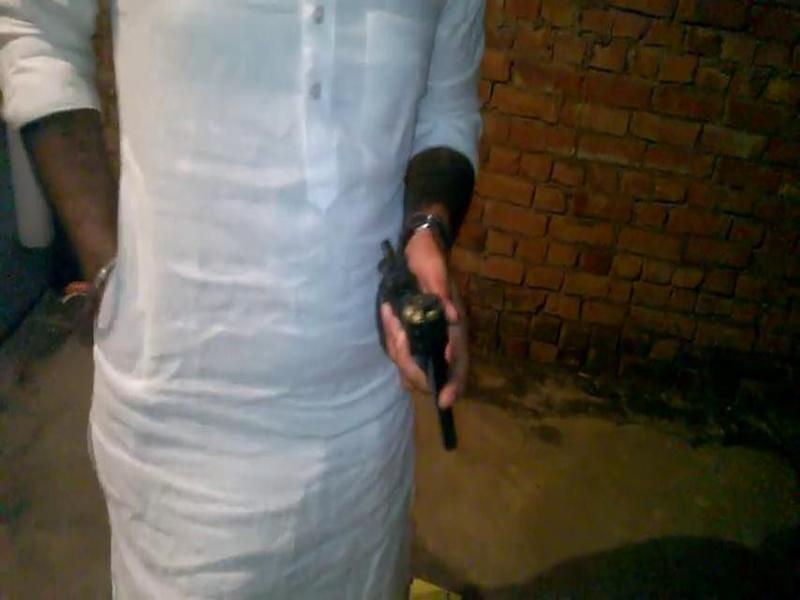Revolver: (372, 224, 512, 457)
